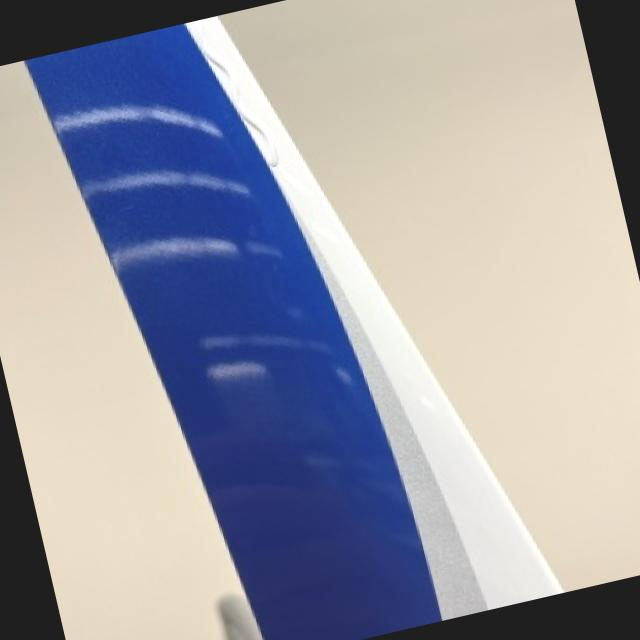healthy: (24, 16, 558, 640)
